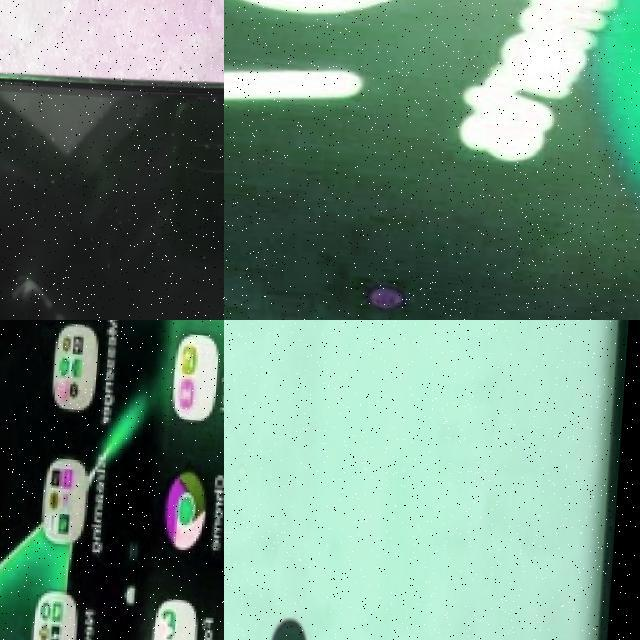dead pixel: (283, 231, 496, 320)
